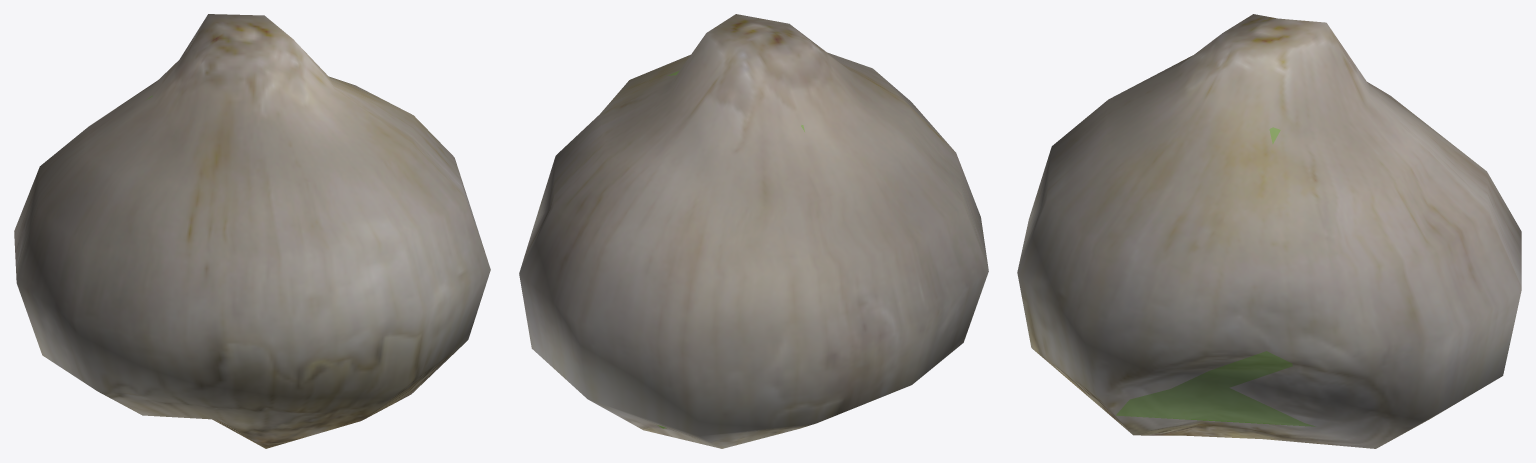
Rendered from pg_Garlic_02_a.fbx.
3 renders of one model, left to right at view 1: azimuth 30°, elevation 25°; view 2: azimuth 150°, elevation 25°; view 3: azimuth 270°, elevation 25°, orthographic. The views are drawn at different scales.
Visible parts, largest first — view 1: pg_Garlic_02_a_LOD0; view 2: pg_Garlic_02_a_LOD0; view 3: pg_Garlic_02_a_LOD0, pg_Garlic_02_a_col.
Boxes of the visible parts, box(x1,y1,x2,y2) form: pg_Garlic_02_a_LOD0: box(14, 14, 490, 448); pg_Garlic_02_a_LOD0: box(519, 14, 988, 448); pg_Garlic_02_a_LOD0: box(1017, 14, 1521, 448); pg_Garlic_02_a_col: box(1116, 127, 1315, 426).
Size of what is drawn, in the model's own units: 7.08 by 6.59 by 7.52.
Materials: 2 (1 with a texture image).
